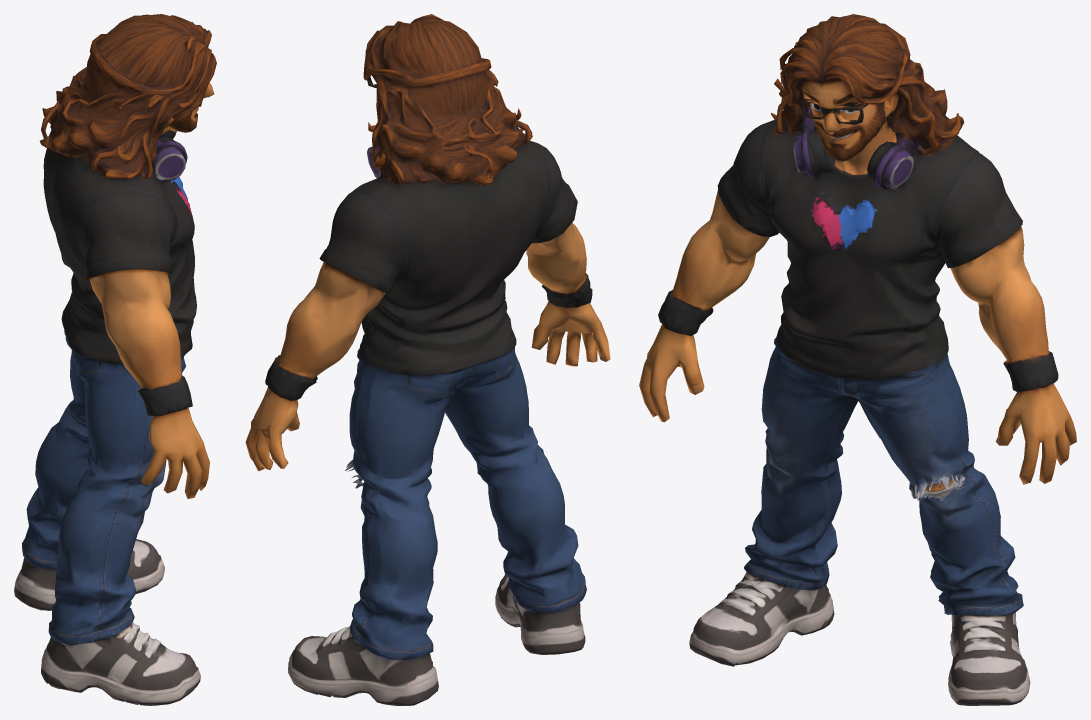
File: pandrezz.glb
3 renders of one model, left to right at view 1: azimuth 30°, elevation 25°; view 2: azimuth 150°, elevation 25°; view 3: azimuth 270°, elevation 25°, orthographic. The views are drawn at different scales.
Visible parts, largest first — view 1: tripo_node_7840c02a-1e35-4640-93be-6e9436c2349b; view 2: tripo_node_7840c02a-1e35-4640-93be-6e9436c2349b; view 3: tripo_node_7840c02a-1e35-4640-93be-6e9436c2349b.
Boxes of the visible parts, x1,y1,x2,y2 form: tripo_node_7840c02a-1e35-4640-93be-6e9436c2349b: (14, 14, 216, 705); tripo_node_7840c02a-1e35-4640-93be-6e9436c2349b: (245, 14, 610, 705); tripo_node_7840c02a-1e35-4640-93be-6e9436c2349b: (639, 14, 1076, 705).
Bounding box in the file's own units: 0.3751 × 0.9998 × 0.6048.
Materials: 1 (1 with a texture image).
